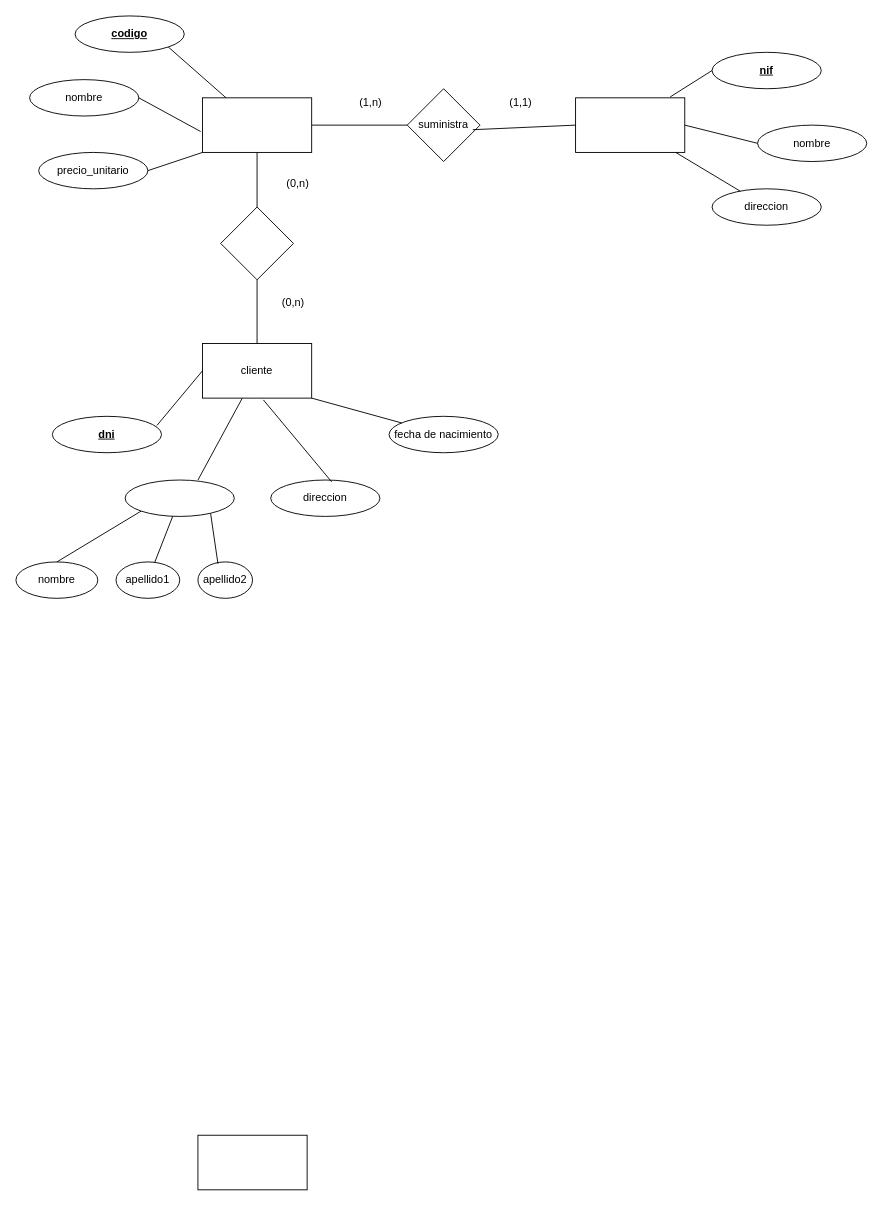
The diagram is 883 pixels wide and 1206 high, and some of its shapes have lost their labels. The shapes that lost their labels are listed below. From the top down, each one's centre as x and y in pixels, then its label:
(x=257, y=124): producto
(x=630, y=124): proveedor
(x=256, y=243): compra
(x=179, y=497): nombrecompleto
